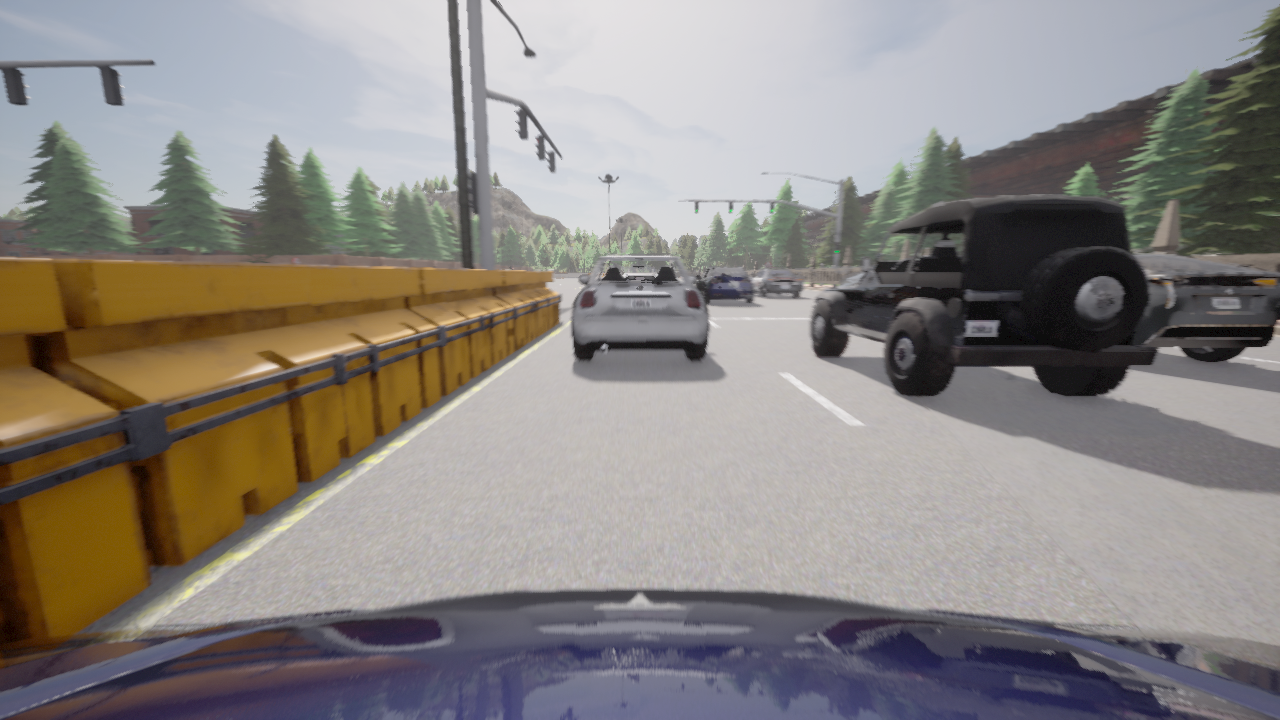cyclist: (0, 588, 1279, 719), (810, 195, 1157, 396), (1132, 253, 1279, 362), (571, 255, 709, 361), (696, 267, 753, 303), (750, 267, 803, 297)
pedestrian: (819, 265, 824, 285)
